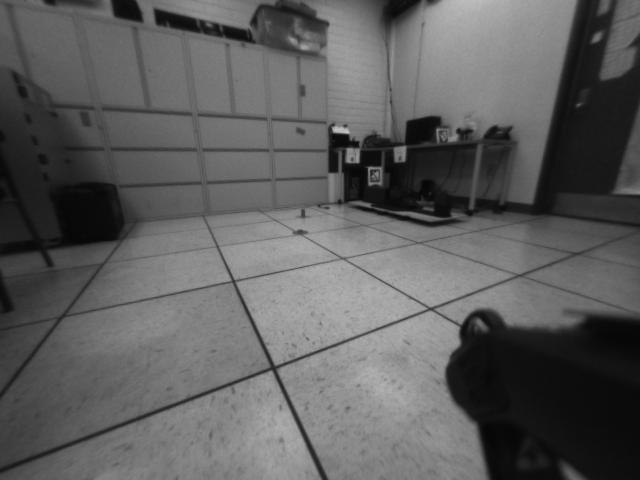X: (297, 207, 309, 217)
